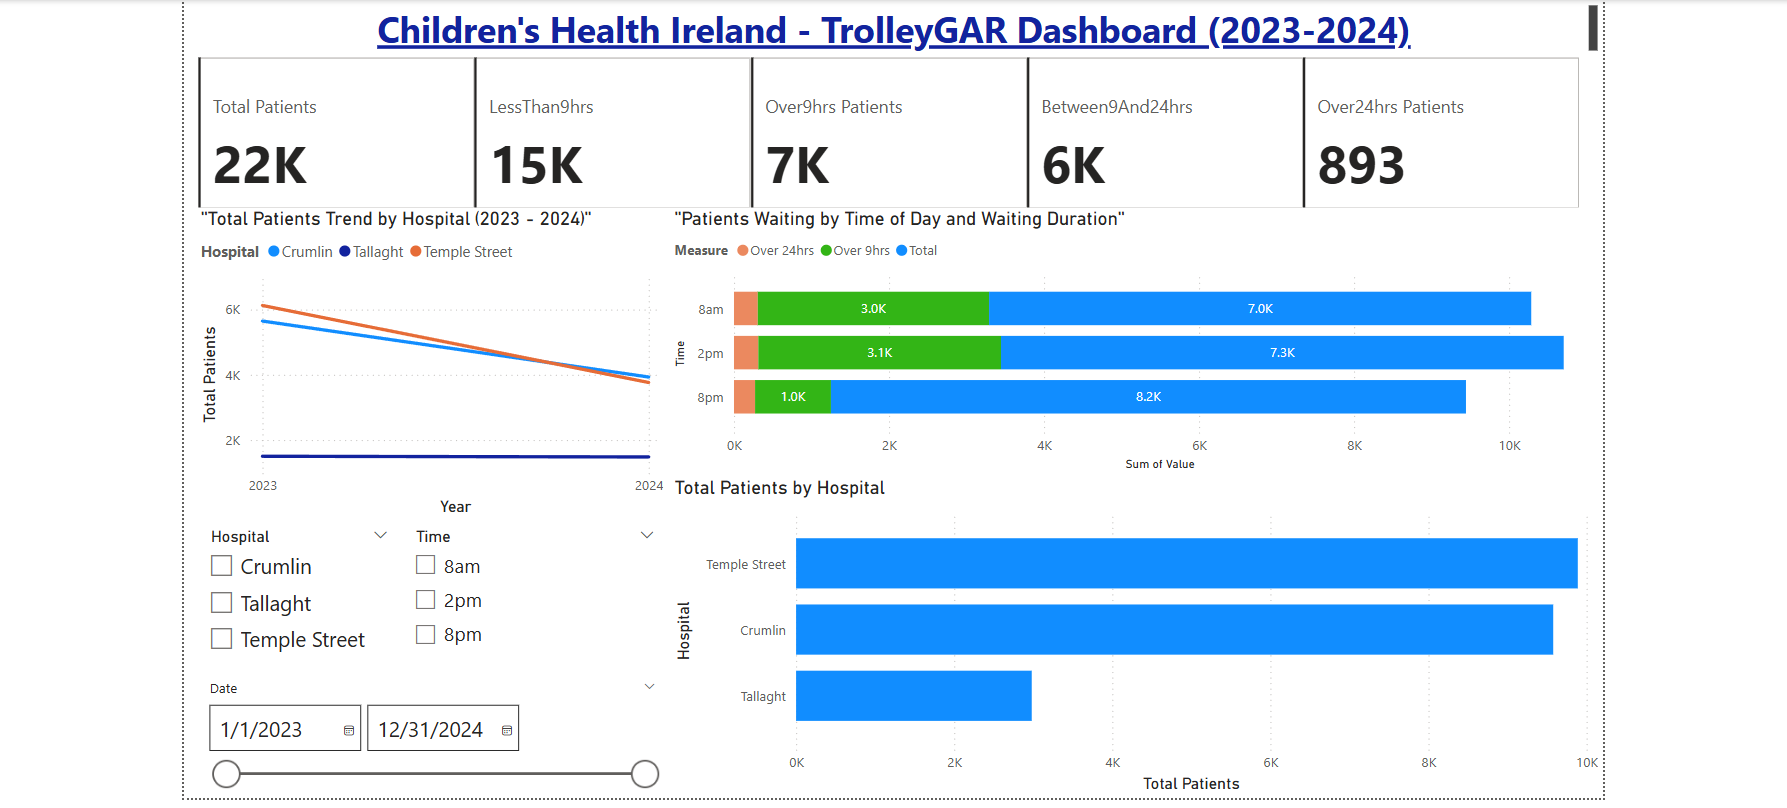

The dashboard page shown, as its layout file describes it:
{"tool":"powerbi","page":{"name":"Page 1","canvas":[1280,720],"ordinal":0},"visuals":[{"type":"cardVisual","title":"KPI Cards","fields":{"Data":["All Hospitals.Total Patients","All Hospitals.LessThan9hrs","All Hospitals.Over9hrs Patients","All Hospitals.Between9And24hrs","All Hospitals.Over24hrs Patients"]},"box":[9.5,51.4,1270.3,136.5],"z":0},{"type":"lineChart","title":"\"Total Patients Trend by Hospital (2023 - 2024)\"\n","fields":{"Category":["All Hospitals.Date.Variation.Date Hierarchy.Year","All Hospitals.Date.Variation.Date Hierarchy.Quarter","All Hospitals.Date.Variation.Date Hierarchy.Month","All Hospitals.Date.Variation.Date Hierarchy.Day"],"Series":["All Hospitals.Hospital"],"Y":["All Hospitals.Total Patients"]},"box":[10.1,187.6,427.1,282.8],"z":1},{"type":"barChart","title":"\"Patients Waiting by Time of Day and Waiting Duration\"\n\n","fields":{"Series":["All Hospitals.Measure"],"Y":["Sum(All Hospitals.Value)"],"Category":["All Hospitals.Time"]},"box":[437.2,187.6,842.6,242.4],"z":2},{"type":"clusteredBarChart","fields":{"Category":["All Hospitals.Hospital"],"Y":["All Hospitals.Total Patients"]},"box":[437.2,429.9,842.6,290],"z":3},{"type":"slicer","fields":{"Values":["All Hospitals.Hospital"]},"box":[10.8,470.3,185.1,136.5],"z":4},{"type":"slicer","fields":{"Values":["All Hospitals.Time"]},"box":[195.9,470.3,240.5,136.5],"z":5},{"type":"slicer","fields":{"Values":["All Hospitals.Date"]},"box":[10.1,607.4,427.1,112.5],"z":6},{"type":"textbox","box":[9.5,0,1270.3,51.4],"z":7}]}

Visuals, with their boxes on the page's 1280x720 design canvas (x1, y1, x2, y2). These are canvas units, not pixel positions in the 1787x808 screenshot, which may show the page scaled, cropped or inside an application window:
"KPI Cards" cardVisual: {"x1": 10, "y1": 51, "x2": 1280, "y2": 188}
""Total Patients Trend by Hospital (2023 - 2024)"
" lineChart: {"x1": 10, "y1": 188, "x2": 437, "y2": 470}
""Patients Waiting by Time of Day and Waiting Duration"

" barChart: {"x1": 437, "y1": 188, "x2": 1280, "y2": 430}
clusteredBarChart - All Hospitals.Hospital x All Hospitals.Total Patients: {"x1": 437, "y1": 430, "x2": 1280, "y2": 720}
slicer - All Hospitals.Hospital: {"x1": 11, "y1": 470, "x2": 196, "y2": 607}
slicer - All Hospitals.Time: {"x1": 196, "y1": 470, "x2": 436, "y2": 607}
slicer - All Hospitals.Date: {"x1": 10, "y1": 607, "x2": 437, "y2": 720}
textbox: {"x1": 10, "y1": 0, "x2": 1280, "y2": 51}
